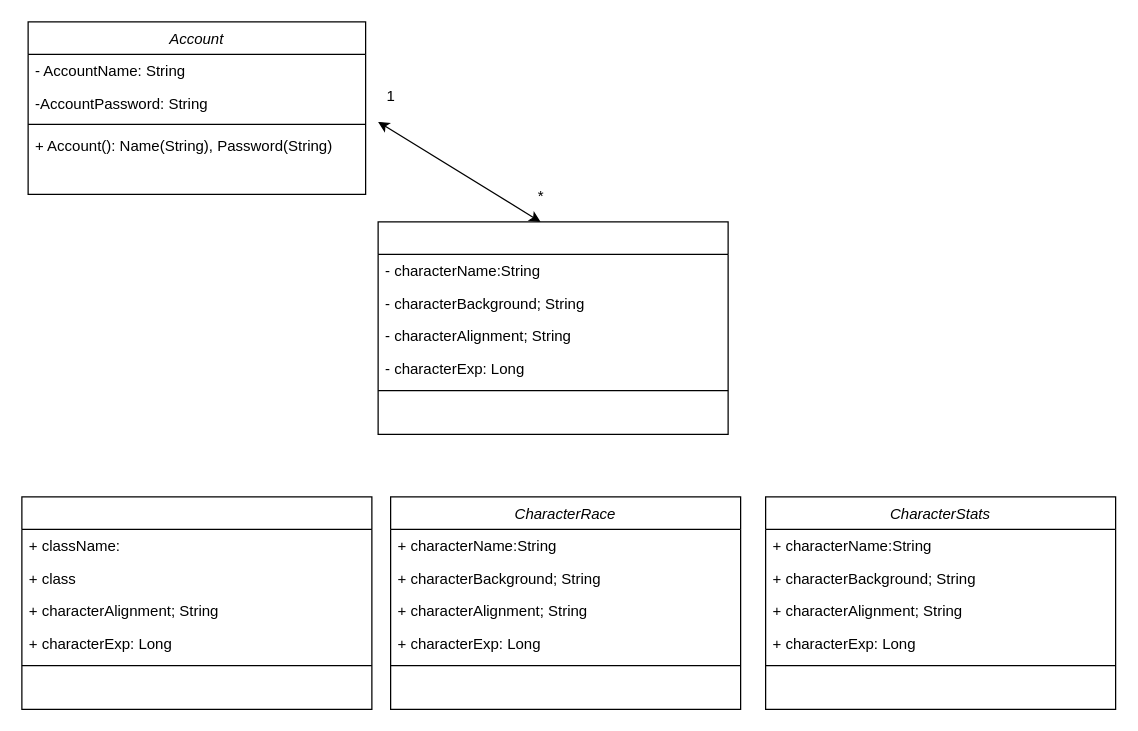
The diagram is 1138 pixels wide and 731 high, and some of its shapes have lost their labels. The shapes that lost their labels are listed below. From the top down, each one's box as (x1, y1, x2, y2) in pixels, then its label:
(377, 221, 728, 434): CharacterSheet
(21, 496, 372, 709): CharacterClass
